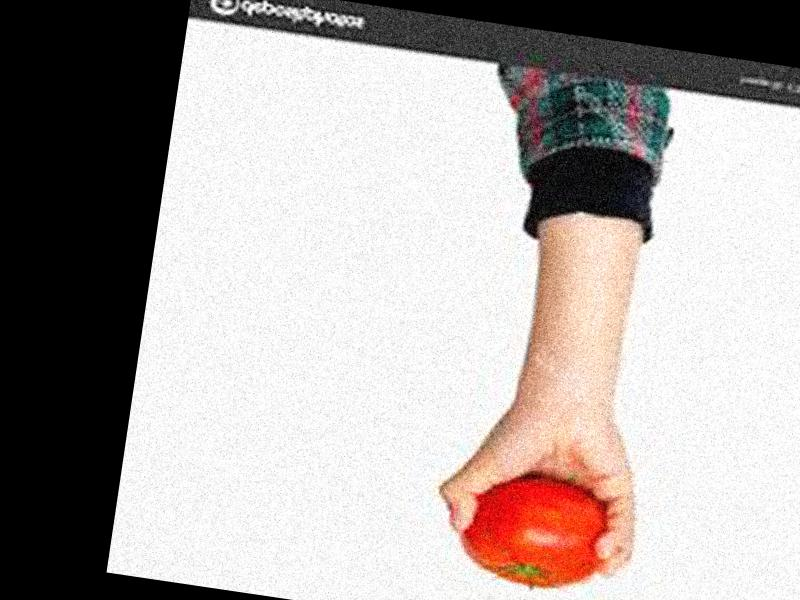Tomato: (454, 466, 617, 600)
